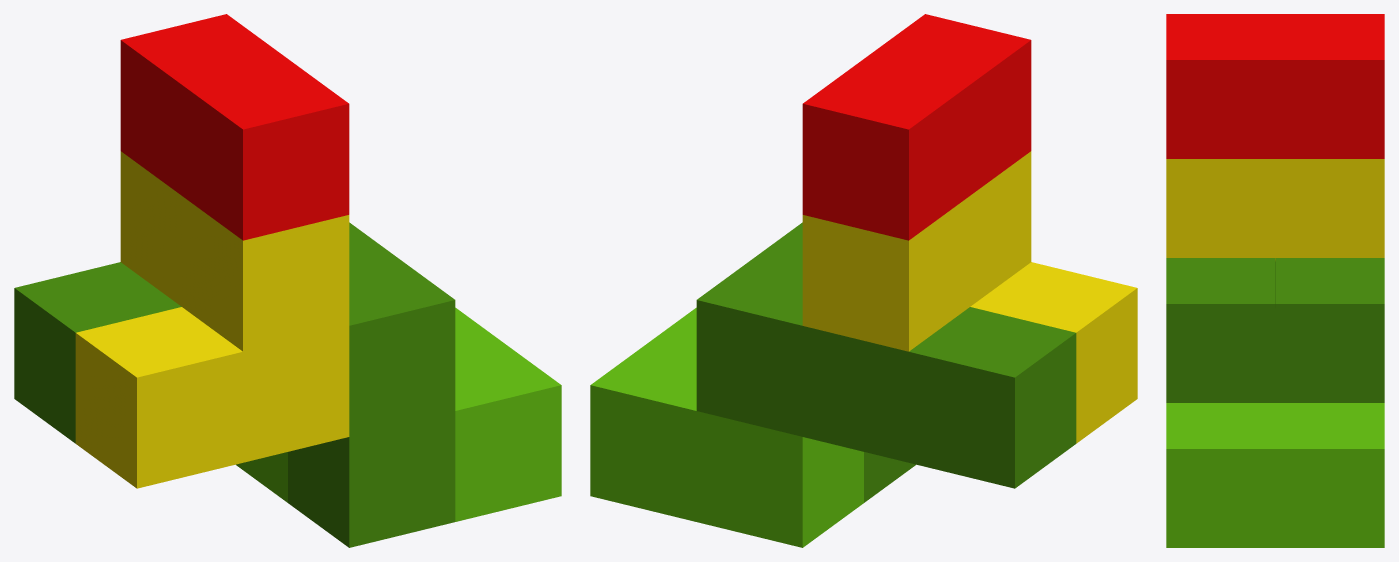
3 renders of one model, left to right at view 1: azimuth 30°, elevation 25°; view 2: azimuth 150°, elevation 25°; view 3: azimuth 270°, elevation 25°, orthographic. The views are drawn at different scales.
Parts seen in each view (by area): view 1: mergedBlocks(Clone); view 2: mergedBlocks(Clone); view 3: mergedBlocks(Clone).
Part boxes in pixels (box(x1,y1,x2,y2)): mergedBlocks(Clone): box(14, 14, 561, 547); mergedBlocks(Clone): box(590, 14, 1137, 547); mergedBlocks(Clone): box(1166, 14, 1384, 547).
Size of the model in its own units: 4 by 4 by 2.
4 materials, 4 textured.
